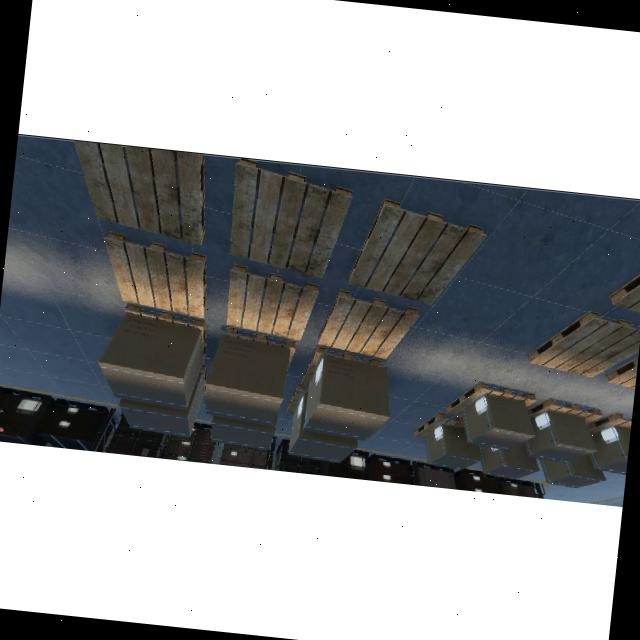wooden_pallet: (348, 197, 485, 304), (103, 231, 206, 318), (526, 310, 640, 377), (317, 290, 419, 358), (125, 302, 206, 362), (444, 382, 536, 417), (301, 346, 382, 385), (527, 397, 603, 423), (223, 326, 295, 350), (414, 413, 464, 438)
